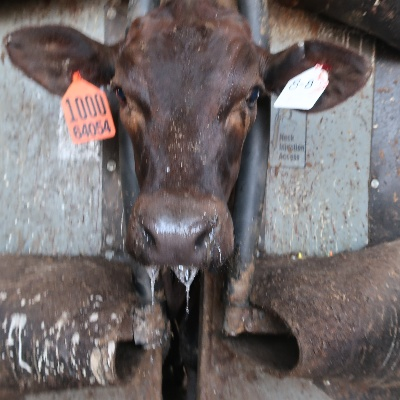fidget_spinner: (123, 198, 235, 272)
